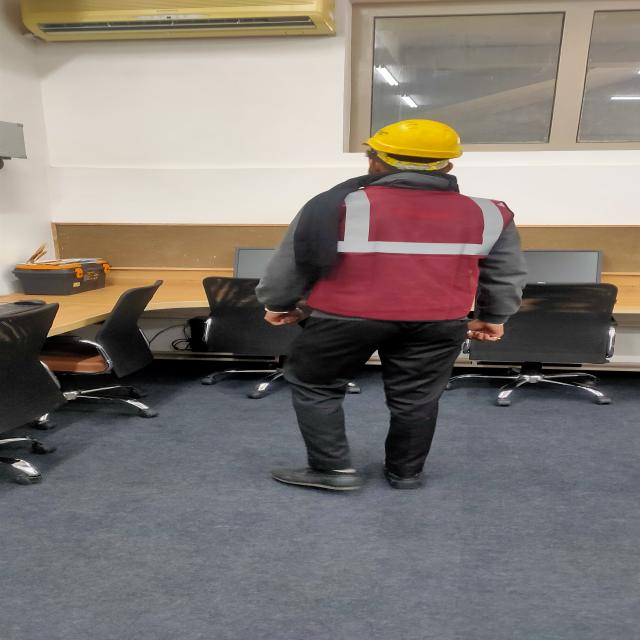safe: (253, 116, 513, 500)
